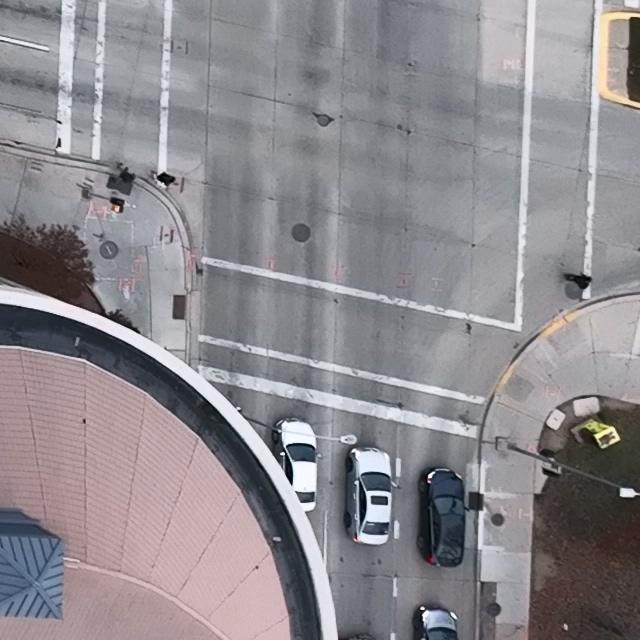car: (418, 466, 469, 568), (346, 447, 397, 545), (274, 418, 322, 513), (413, 606, 458, 640)
